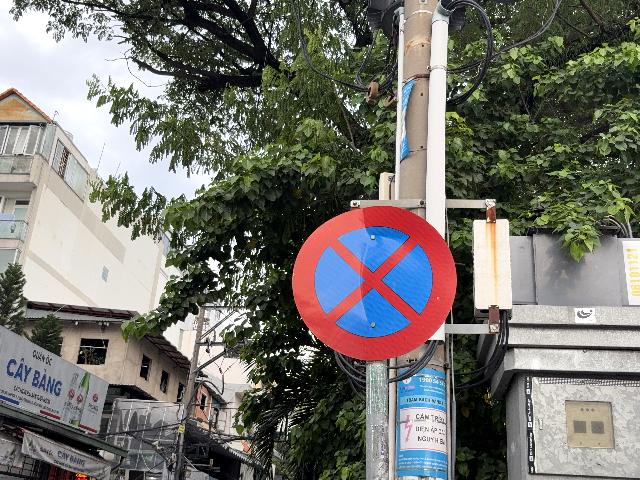cam-dung-va-do-xe: (291, 204, 458, 361)
